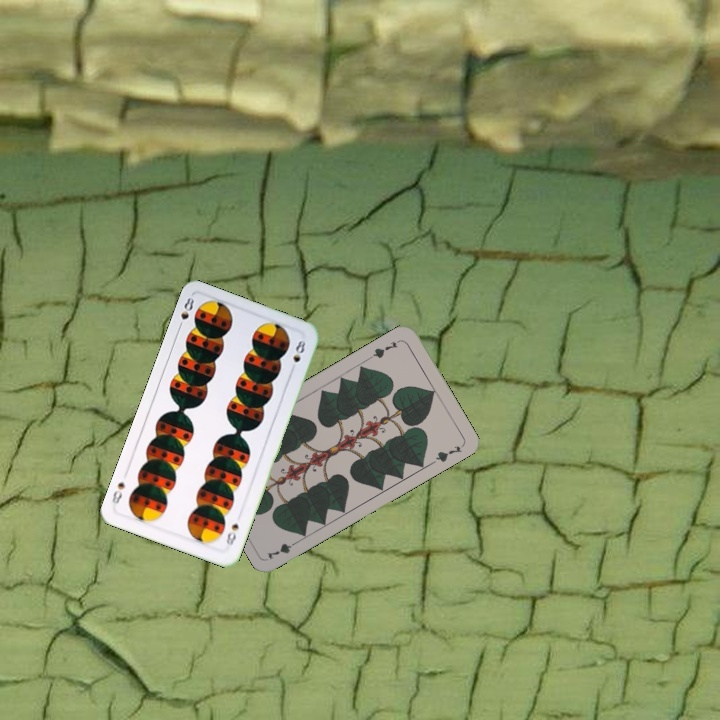G7: (263, 536, 302, 562), (366, 336, 404, 361)
S8: (174, 294, 197, 332), (221, 520, 241, 552)
